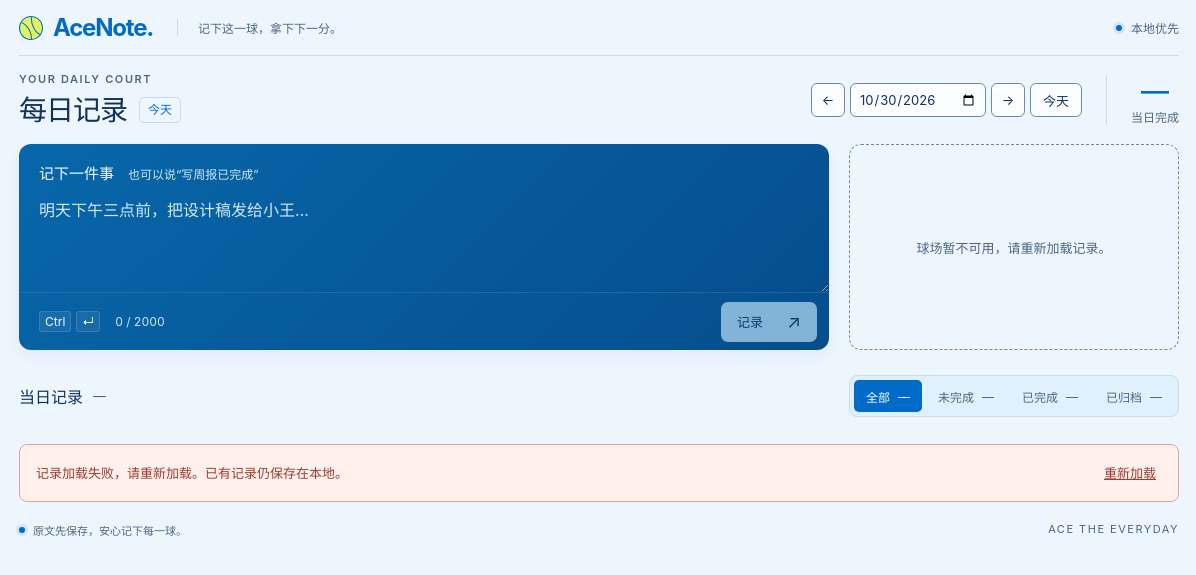
Test: UI polish behavior › shows a query failure instead of a misleading empty state and can retry
expect the message "记录加载失败，请重新加载。已有记录仍保存在本地。 重新加载" is shown: met, box [19,444,1179,502]
Click the button "重新加载" at (1130, 473), box [1098,457,1162,489]
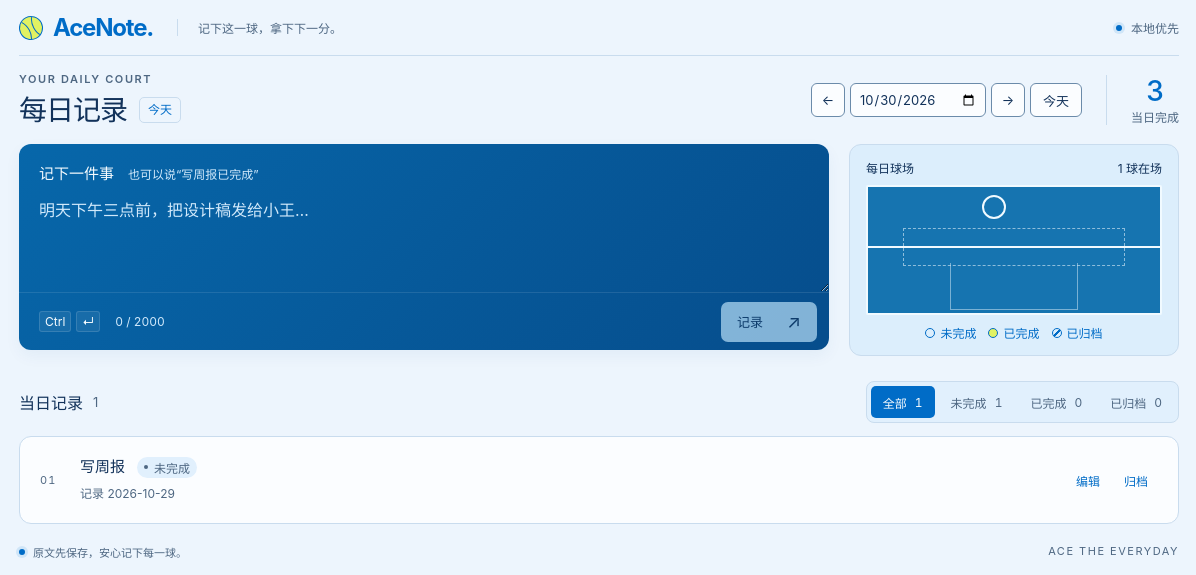
expect the heading "写周报" is shown: met, box [80,455,125,479]
